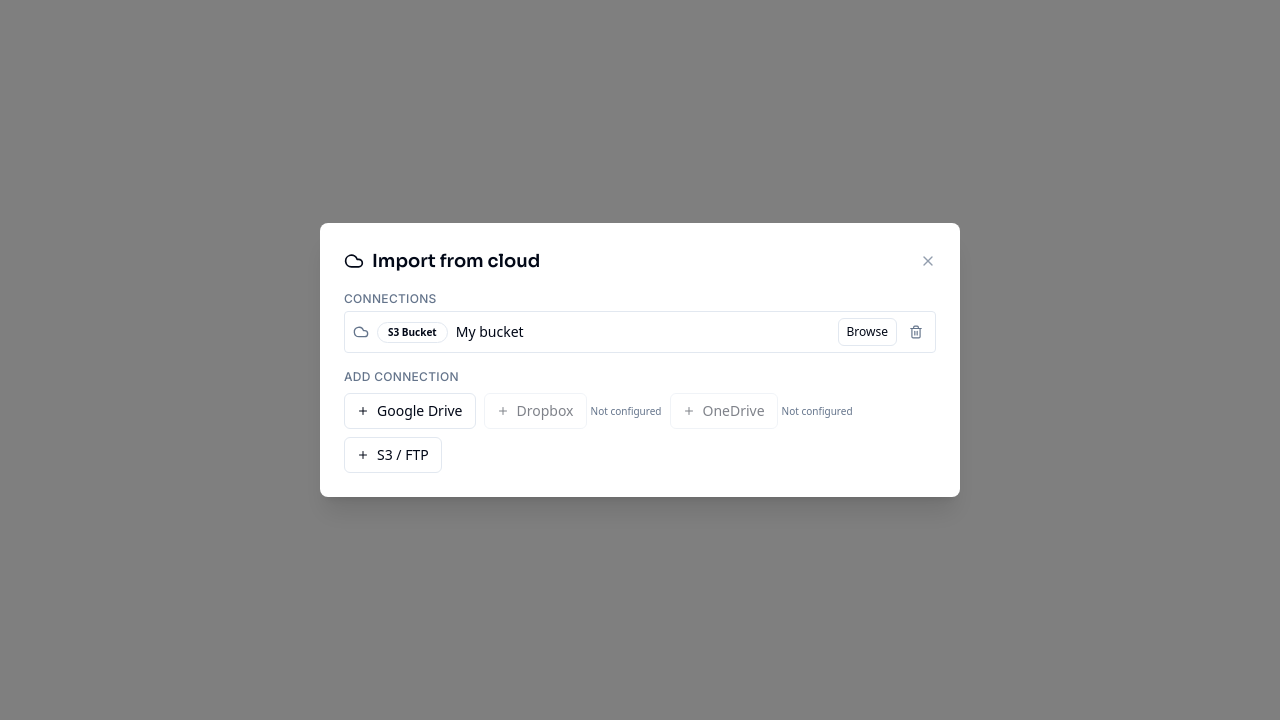
Scenario: CloudImportDialog (Phase D8) — browser step › shows Load more when nextCursor is non-null and passes it back
Click the button "Browse" at point(867, 332), box [838,318,897,346]
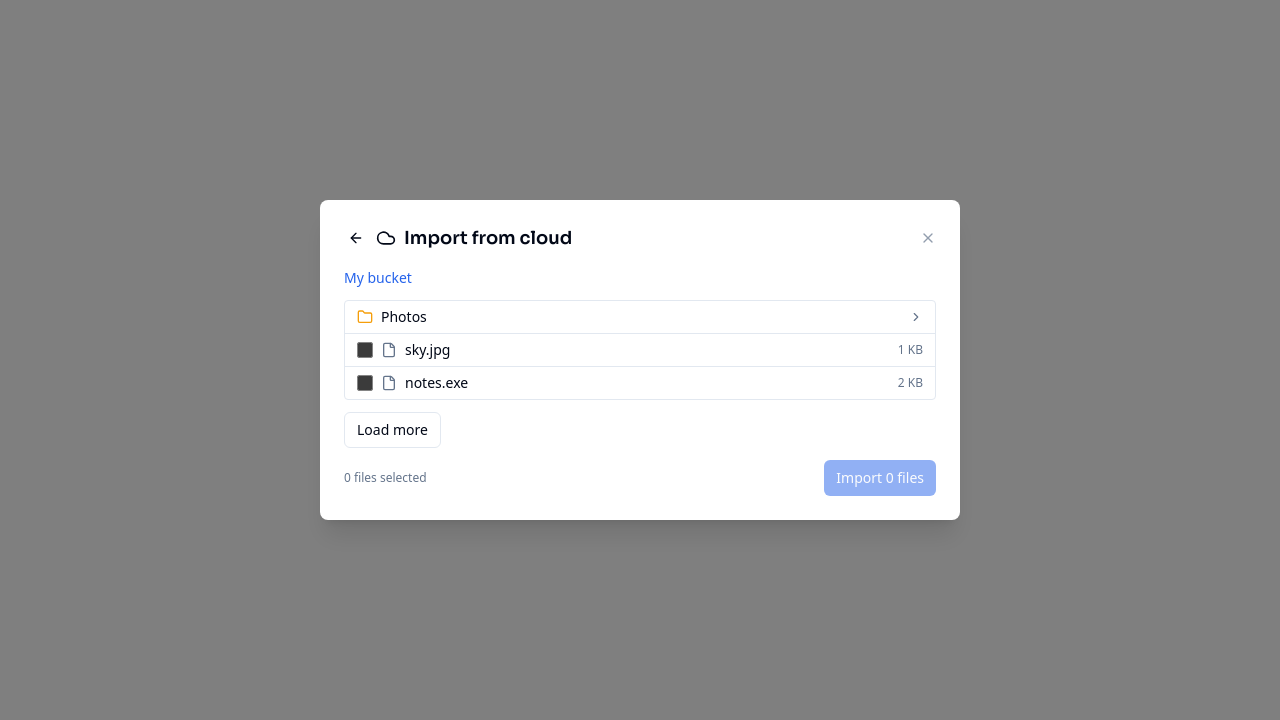
Now the text "sky.jpg" is shown, box [405,340,450,359]
Click the button "Load more" at point(392, 430), box [344,412,441,448]
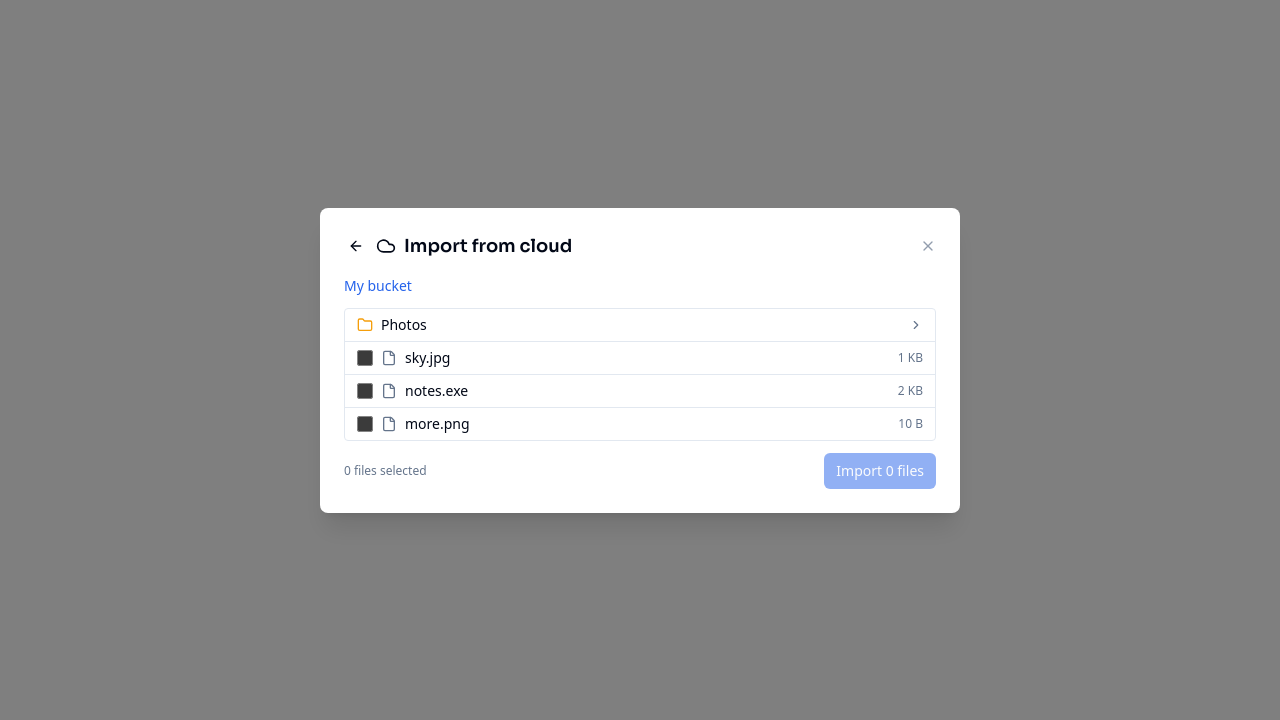
Now the text "sky.jpg" is shown, box [405,348,450,366]
Now the text "more.png" is shown, box [405,414,470,432]
Now the button "Load more" is gone
